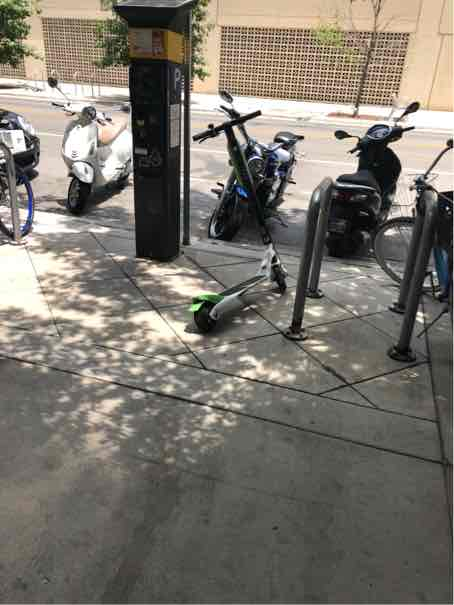scooter: (174, 95, 287, 339)
